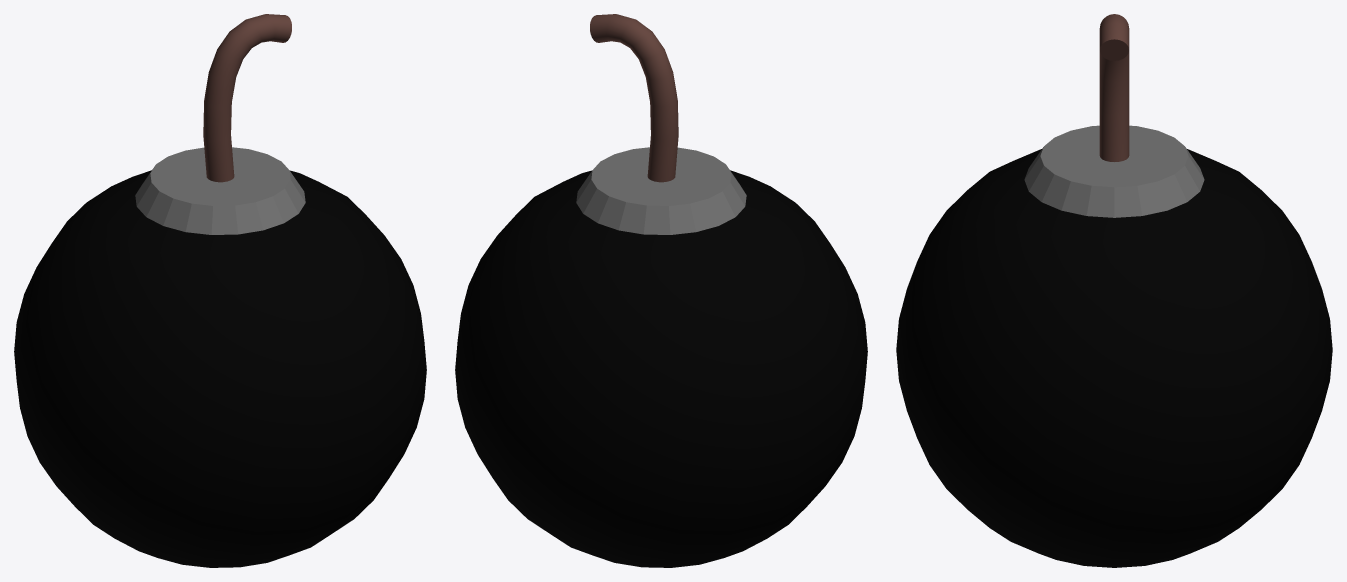
Rendered from bomb.fbx.
3 renders of one model, left to right at view 1: azimuth 30°, elevation 25°; view 2: azimuth 150°, elevation 25°; view 3: azimuth 270°, elevation 25°, orthographic. The views are drawn at different scales.
Parts seen in each view (by area): view 1: pSphere1; view 2: pSphere1; view 3: pSphere1.
Boxes of the visible parts, left/top/right/bottom form: pSphere1: left=14, top=14, right=426, bottom=567; pSphere1: left=455, top=14, right=867, bottom=567; pSphere1: left=896, top=14, right=1332, bottom=567.
Size of the model in its own units: 2 by 2.78 by 2.
